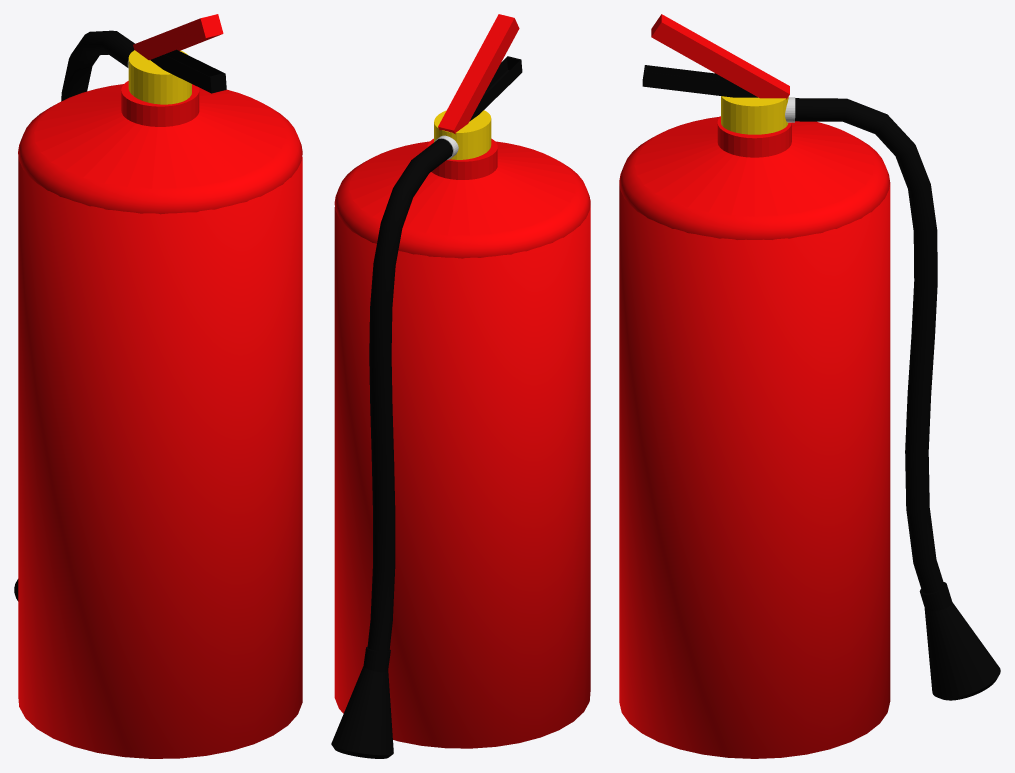
Rendered from Brændslukker.fbx.
3 views of the same model, side by side, from view 1: azimuth 30°, elevation 25°; view 2: azimuth 150°, elevation 25°; view 3: azimuth 270°, elevation 25° (orthographic). The views are drawn at different scales.
Visible parts, largest first — view 1: Cylinder, Cone, Torus, BezierCurve, Cylinder.002, Cylinder.001, Cube, Cube.001; view 2: Cylinder, Cone, BezierCurve, Torus, Cone.001, Cube, Cylinder.002, Cylinder.001, Cube.001, Cylinder.004; view 3: Cylinder, Cone, BezierCurve, Torus, Cone.001, Cube, Cylinder.002, Cube.001, Cylinder.001.
Part boxes in pixels (bbox=[...]): Cylinder: bbox=[18, 157, 302, 758]; Cone: bbox=[34, 84, 286, 188]; Torus: bbox=[18, 84, 302, 214]; BezierCurve: bbox=[61, 30, 134, 101]; Cylinder.002: bbox=[128, 50, 191, 104]; Cylinder.001: bbox=[121, 81, 199, 126]; Cube: bbox=[133, 14, 223, 60]; Cube.001: bbox=[150, 49, 226, 93]; Cylinder: bbox=[334, 200, 590, 748]; Cone: bbox=[349, 142, 575, 235]; BezierCurve: bbox=[367, 139, 452, 651]; Torus: bbox=[334, 141, 590, 258]; Cone.001: bbox=[331, 666, 393, 758]; Cube: bbox=[438, 14, 519, 134]; Cylinder.002: bbox=[434, 110, 491, 159]; Cylinder.001: bbox=[427, 138, 497, 179]; Cube.001: bbox=[469, 56, 522, 121]; Cylinder.004: bbox=[363, 646, 390, 672]; Cylinder: bbox=[619, 183, 890, 758]; Cone: bbox=[634, 117, 874, 216]; BezierCurve: bbox=[795, 98, 944, 593]; Torus: bbox=[619, 116, 890, 239]; Cone.001: bbox=[924, 602, 1000, 700]; Cube: bbox=[651, 14, 789, 99]; Cylinder.002: bbox=[721, 96, 788, 134]; Cube.001: bbox=[642, 65, 757, 97]; Cylinder.001: bbox=[717, 116, 791, 157].
Size of the model in its own units: 138 by 383 by 194.
